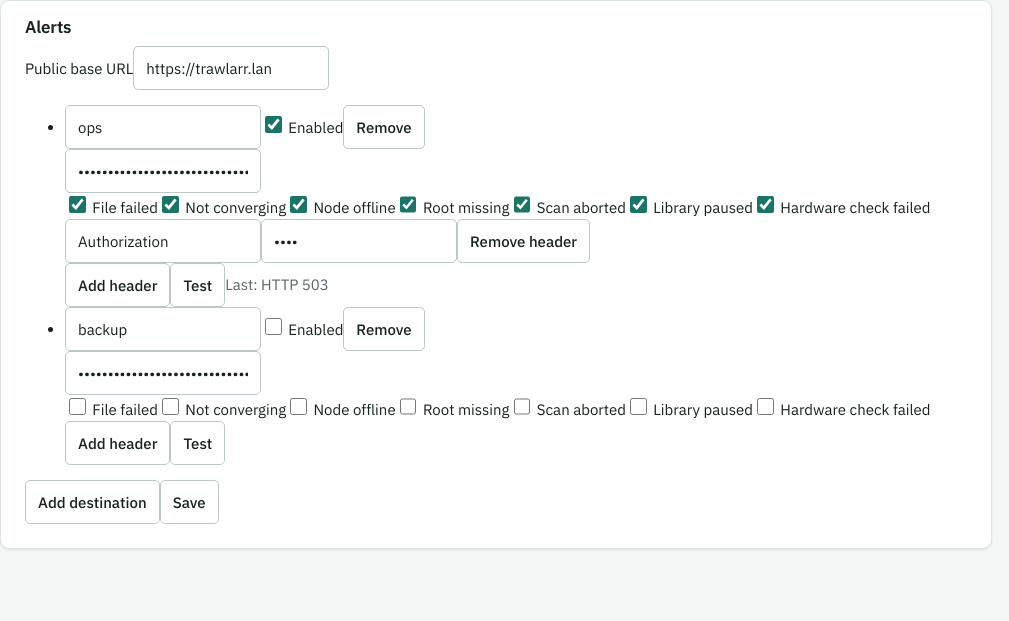
Test: AlertsSection › refuses a renamed destination without a fresh url instead of sending it
Type "2" into the 1st field named "Name" at {"x": 163, "y": 127}, box [65,105,261,149]
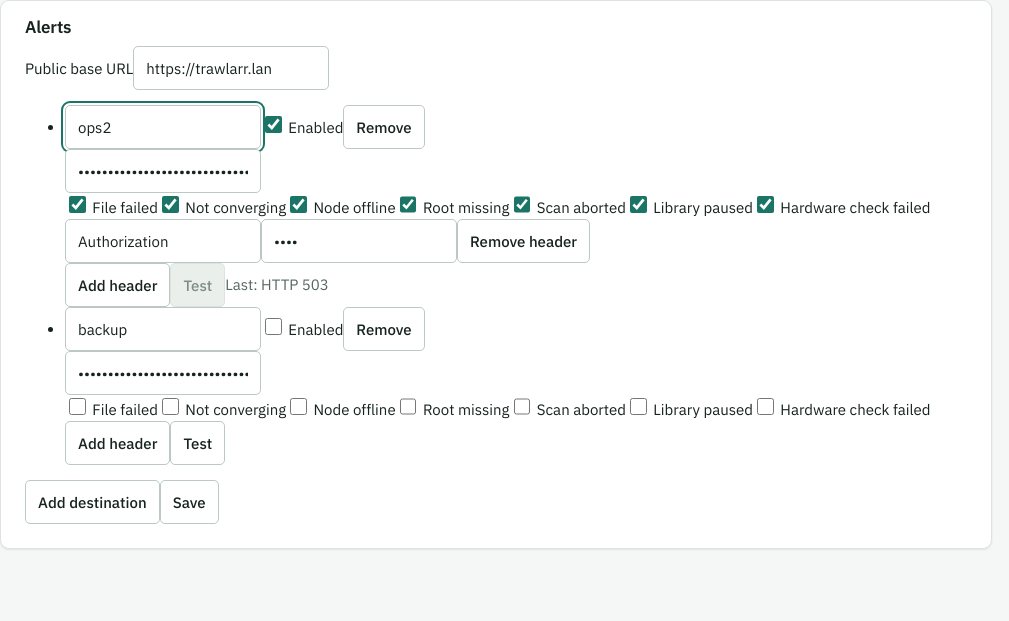
Click the button "Save" at {"x": 189, "y": 502}, box [160,480,219,524]
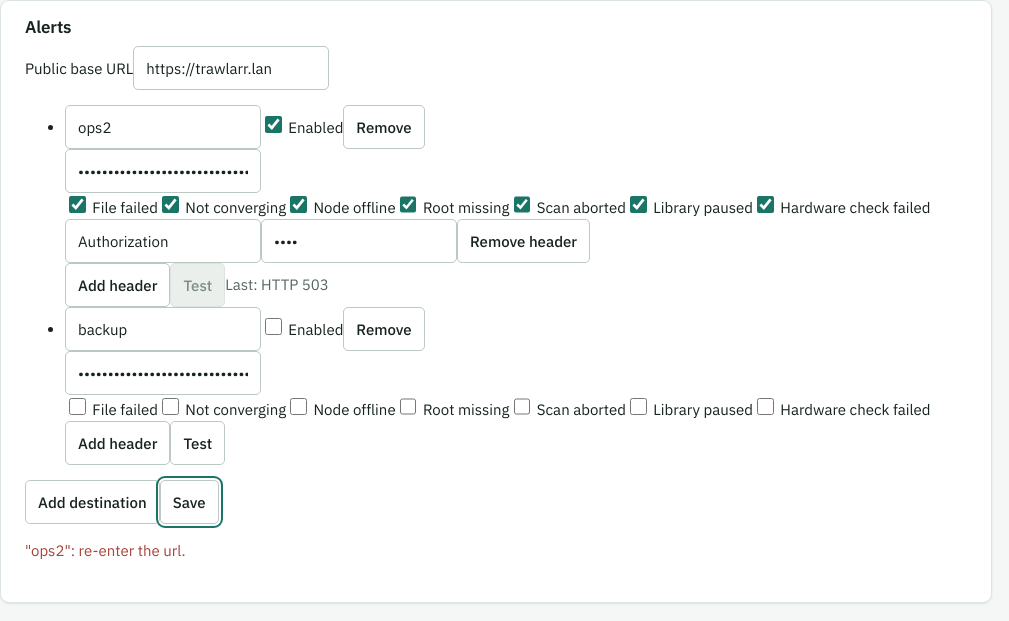
Check: the message shows "ops2", box [25,541,186,560]
